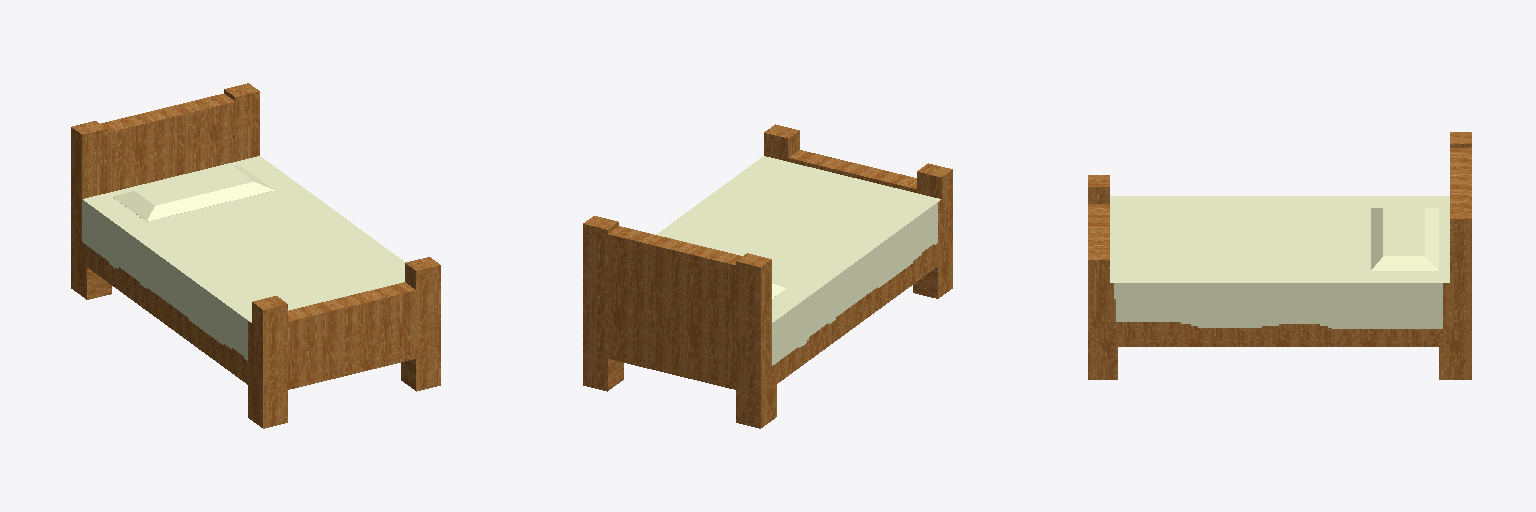
3 renders of one model, left to right at view 1: azimuth 30°, elevation 25°; view 2: azimuth 150°, elevation 25°; view 3: azimuth 270°, elevation 25°, orthographic.
Parts seen in each view (by area): view 1: Cube; view 2: Cube; view 3: Cube.
Part boxes in pixels (x1,y1,x2,y2): Cube: (71, 83, 440, 428); Cube: (583, 124, 952, 428); Cube: (1088, 132, 1471, 379).
Size of the model in its own units: 2.6 by 2.26 by 4.87.
1 materials, 1 textured.